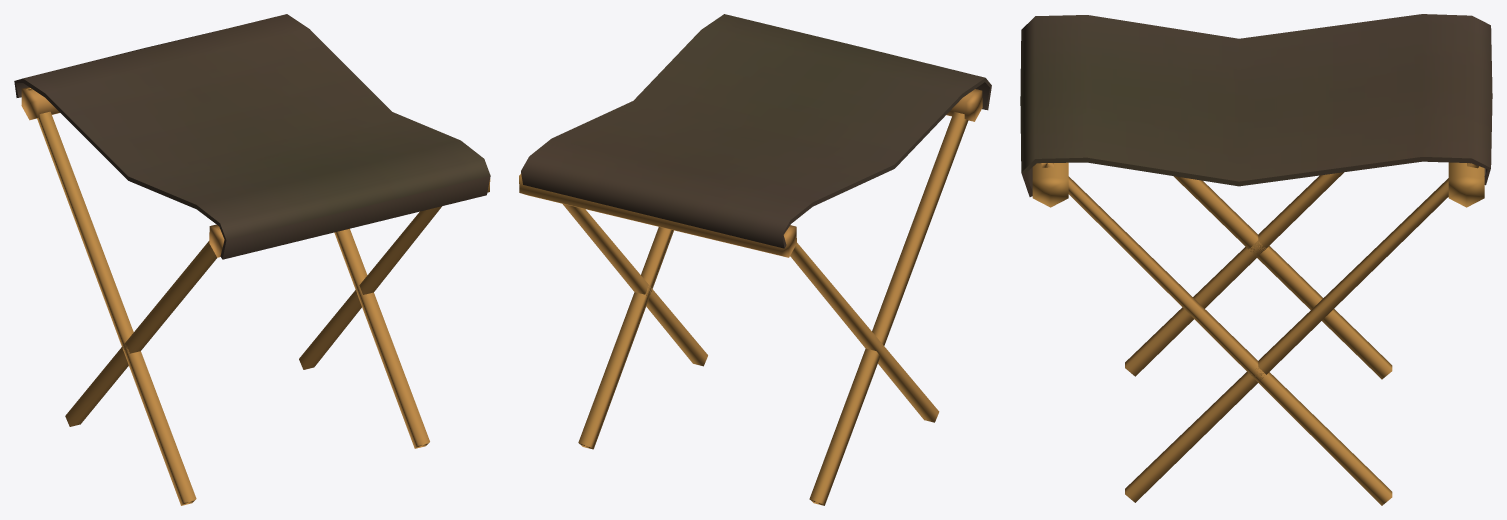
File: CampChair.fbx
The picture shows the model from 3 angles, left to right: view 1: azimuth 30°, elevation 25°; view 2: azimuth 150°, elevation 25°; view 3: azimuth 270°, elevation 25°; orthographic projection. The views are drawn at different scales.
Parts seen in each view (by area): view 1: pCube6; view 2: pCube6; view 3: pCube6.
Part boxes in pixels (x1,y1,x2,y2): pCube6: (14, 14, 490, 505); pCube6: (519, 14, 991, 505); pCube6: (1020, 14, 1492, 505).
Size of the model in its own units: 92.16 by 105 by 126.
